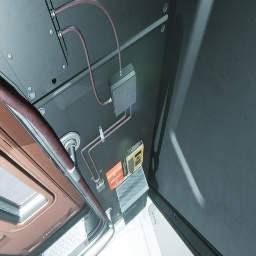EmergencyPhone ,: (123, 139, 144, 178)
FireAlarm ,: (106, 161, 124, 190)
